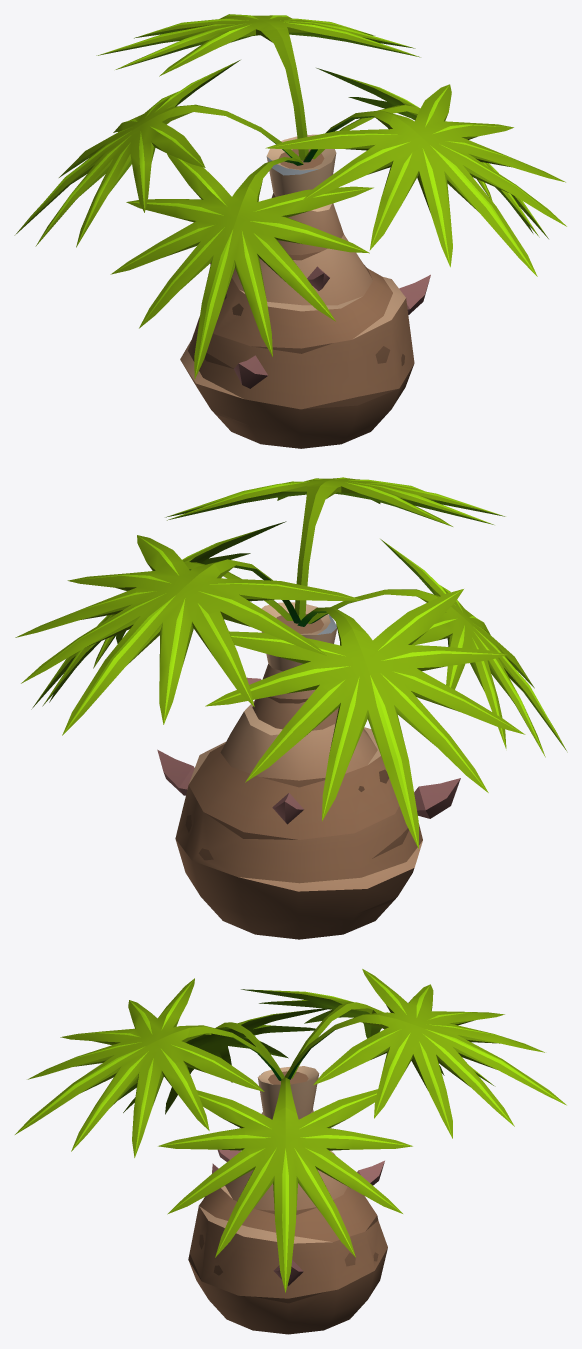
File: palm2.glb
3 views of the same model, one above another, from view 1: azimuth 30°, elevation 25°; view 2: azimuth 150°, elevation 25°; view 3: azimuth 270°, elevation 25° (orthographic). The views are drawn at different scales.
Visible parts, largest first — view 1: palm2; view 2: palm2; view 3: palm2.
Boxes of the visible parts, <box> form: palm2: <box>14,14,566,448</box>; palm2: <box>15,477,567,939</box>; palm2: <box>15,969,566,1334</box>.
Bounding box in the file's own units: 3.54 × 2.56 × 4.27.
1 material, 1 textured.
